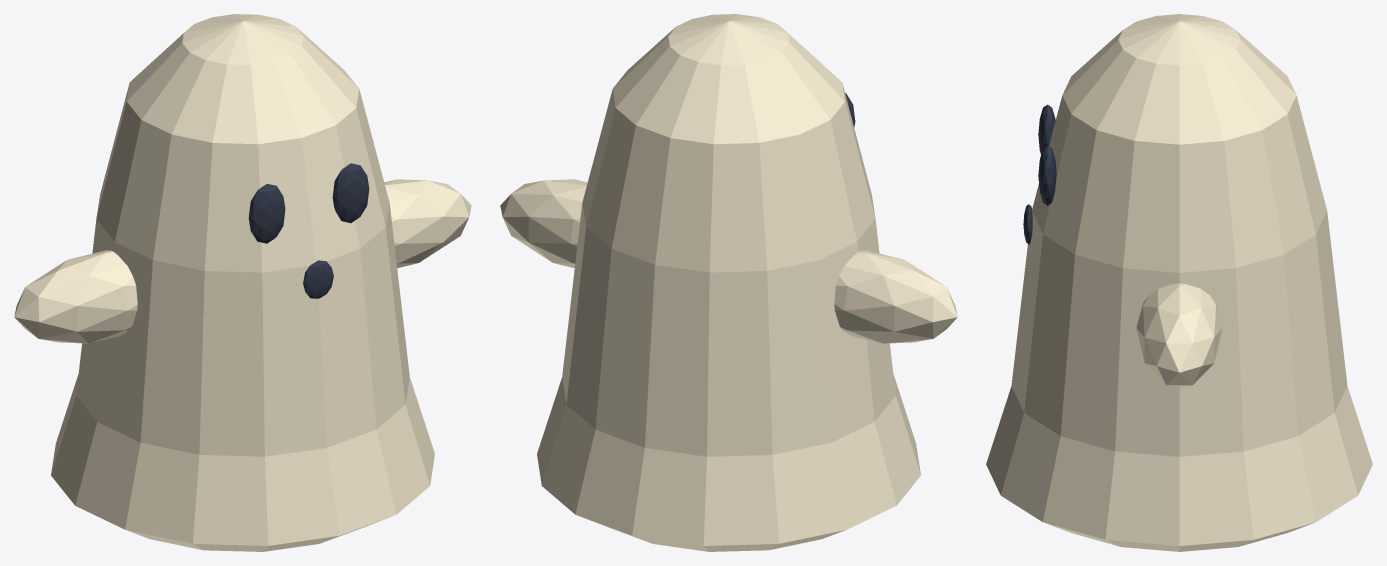
File: moonlit-mischief-friendly-ghost-76e61849.glb
3 views of the same model, side by side, from view 1: azimuth 30°, elevation 25°; view 2: azimuth 150°, elevation 25°; view 3: azimuth 270°, elevation 25° (orthographic).
Parts seen in each view (by area): view 1: friendly-ghost; view 2: friendly-ghost; view 3: friendly-ghost.
Boxes of the visible parts, x1=… form: friendly-ghost: x1=14, y1=14, x2=471, y2=551; friendly-ghost: x1=500, y1=14, x2=957, y2=551; friendly-ghost: x1=986, y1=14, x2=1372, y2=551.
Size of the model in its own units: 1.04 by 1.01 by 0.76.
